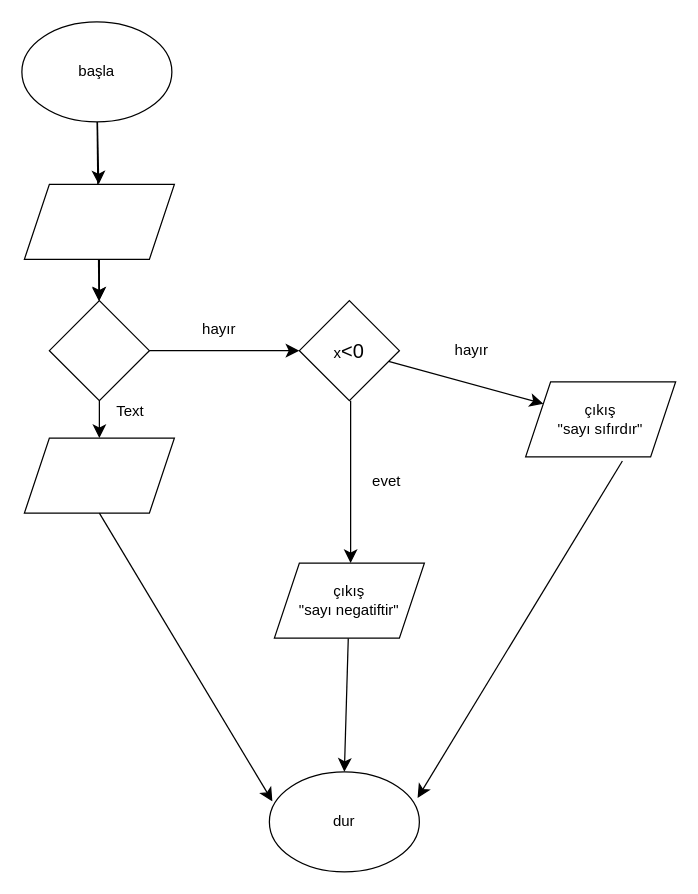
Image size: 698x894. Some labels were removed from this diagram. The shapes that lost their labels are listed below. From the top down, each one's centre as x and y in pixels, then its label:
pixel 98 221: giriş "sayıyı giriniz" , x
pixel 98 350: x >0
pixel 98 475: çıkış "sayı pozitiftir"
